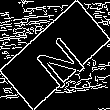N_NW: (25, 23, 85, 87)
